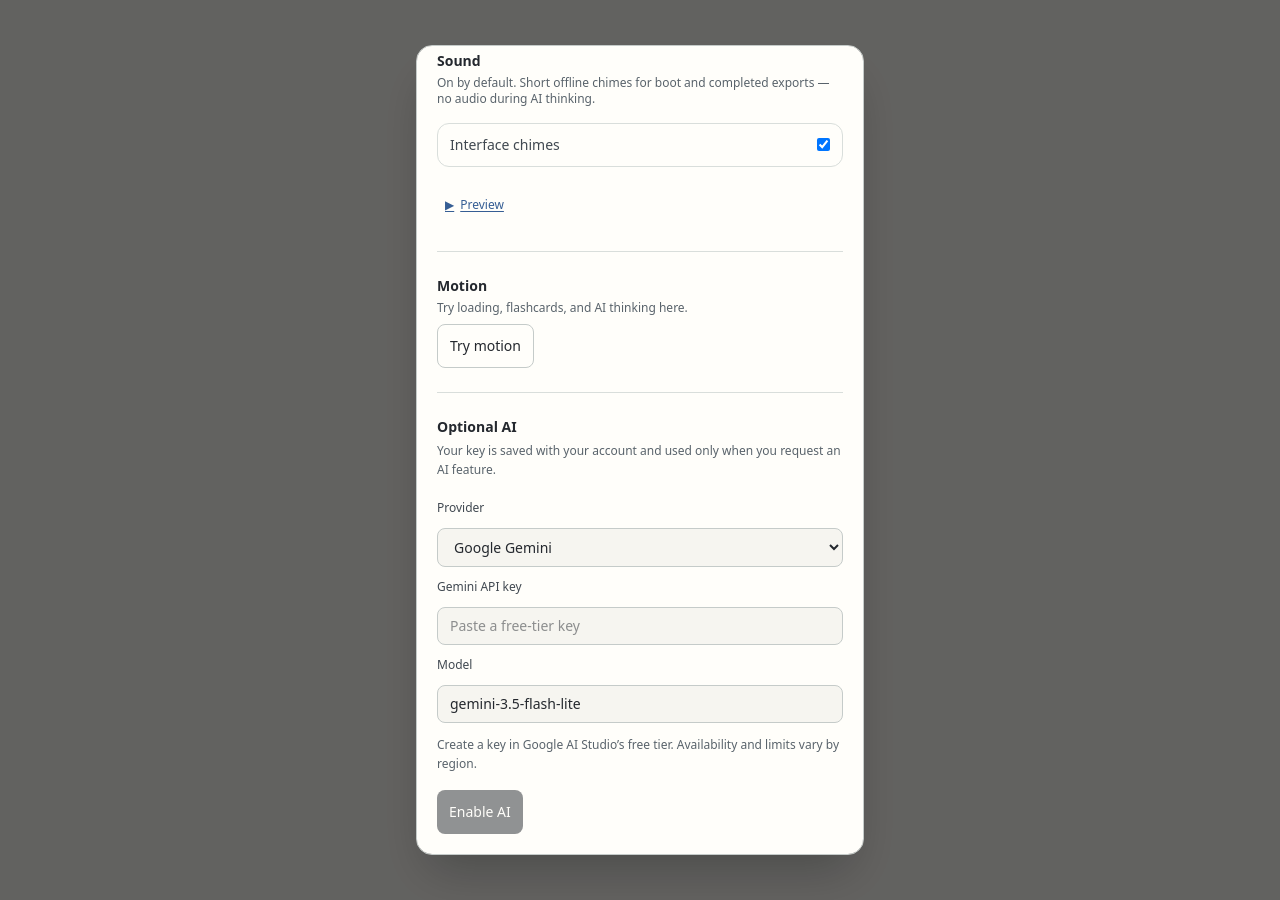
Scenario: offers Groq with a personal-key free-tier helper mentioning console.groq.com
(page scrolled)
Select "Groq" in the dropdown at (640, 547), box top-left (437, 528), bottom-right (843, 566)
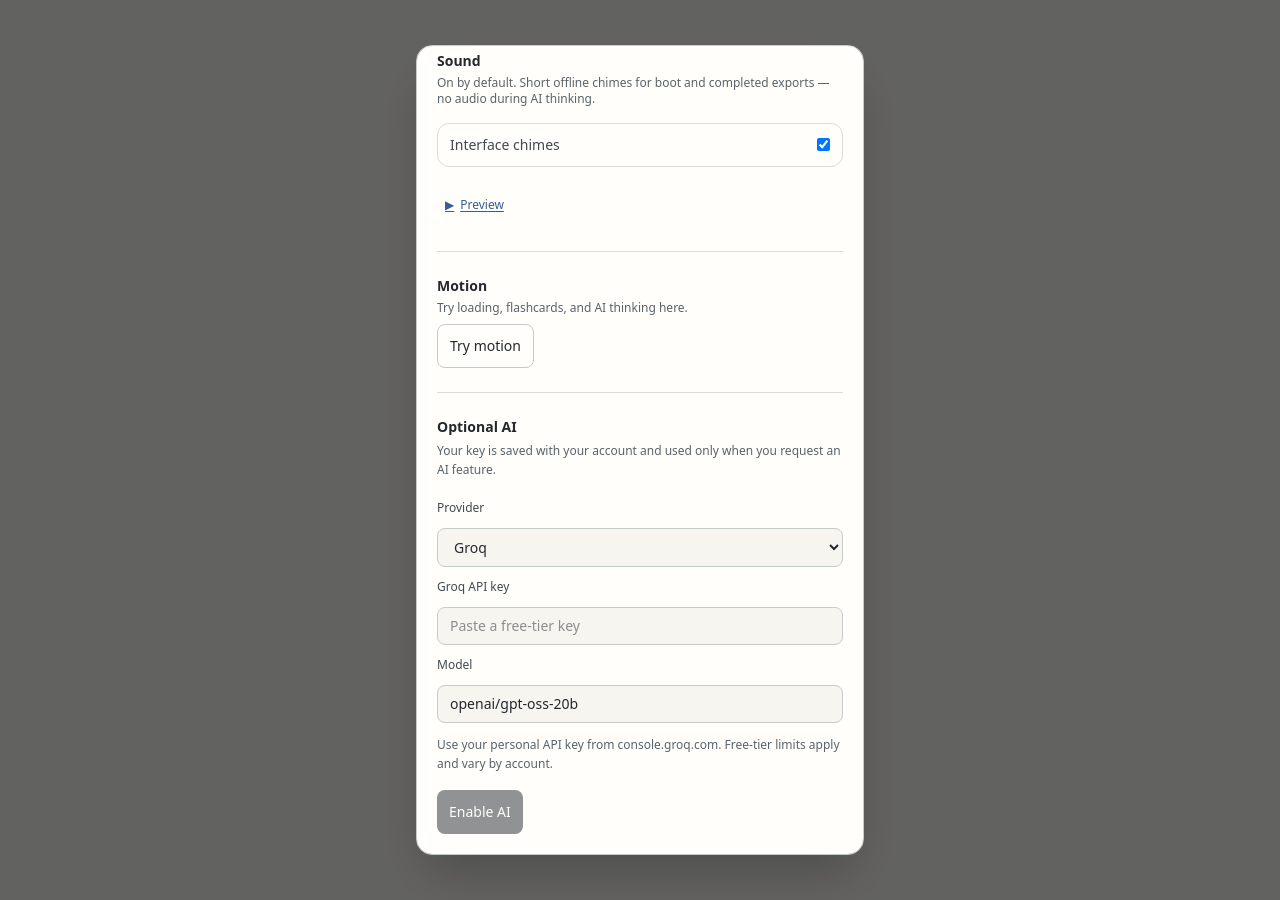
Now the text "Free-tier limits apply" is shown, box top-left (437, 736), bottom-right (840, 772)
Now the text "console.groq.com" is shown, box top-left (437, 736), bottom-right (840, 772)
